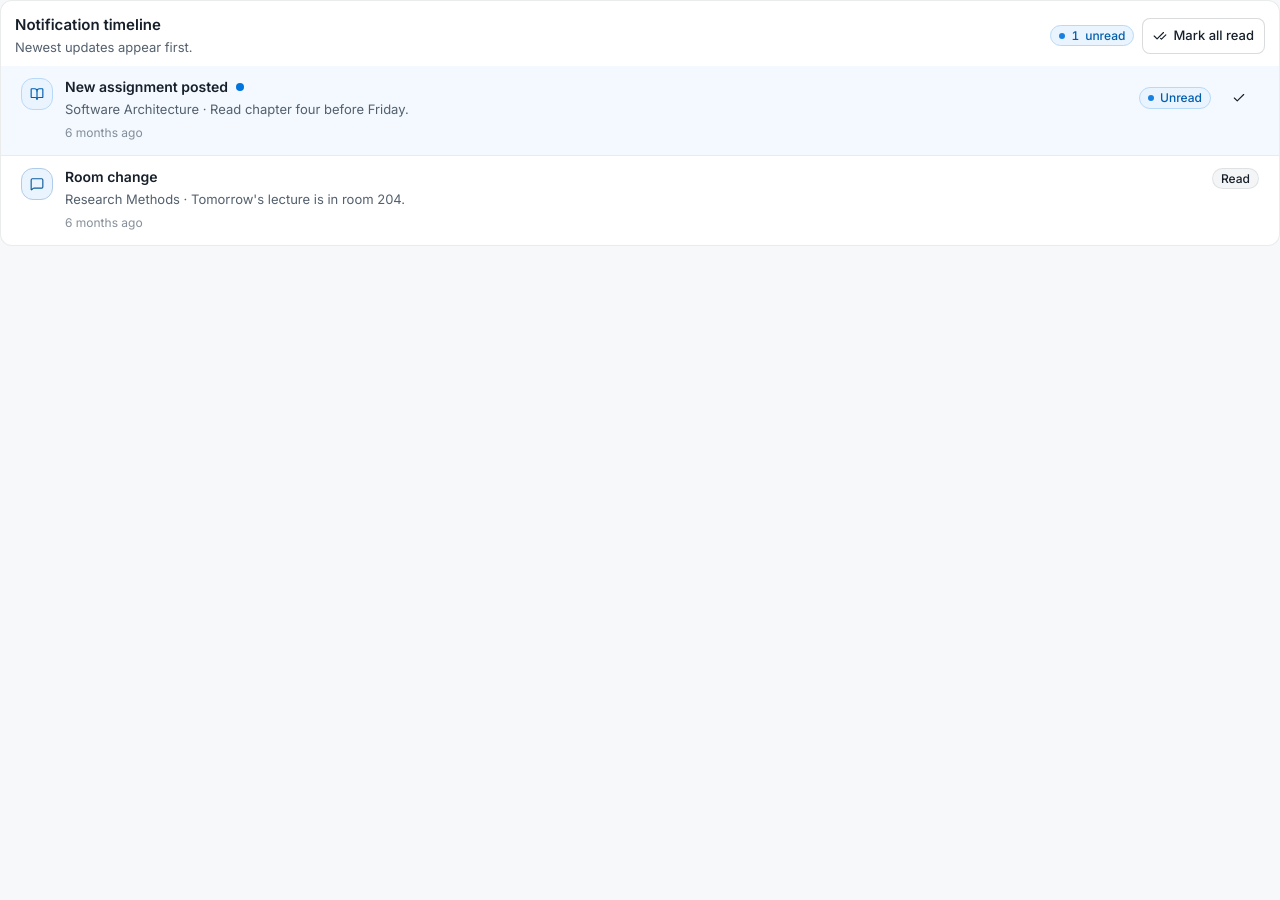
Test: NotificationsClient › rolls back a failed mark-as-read and surfaces the error
Click the button named "Mark New assignment posted as read" at [1239, 98], box [1219,78,1259,118]
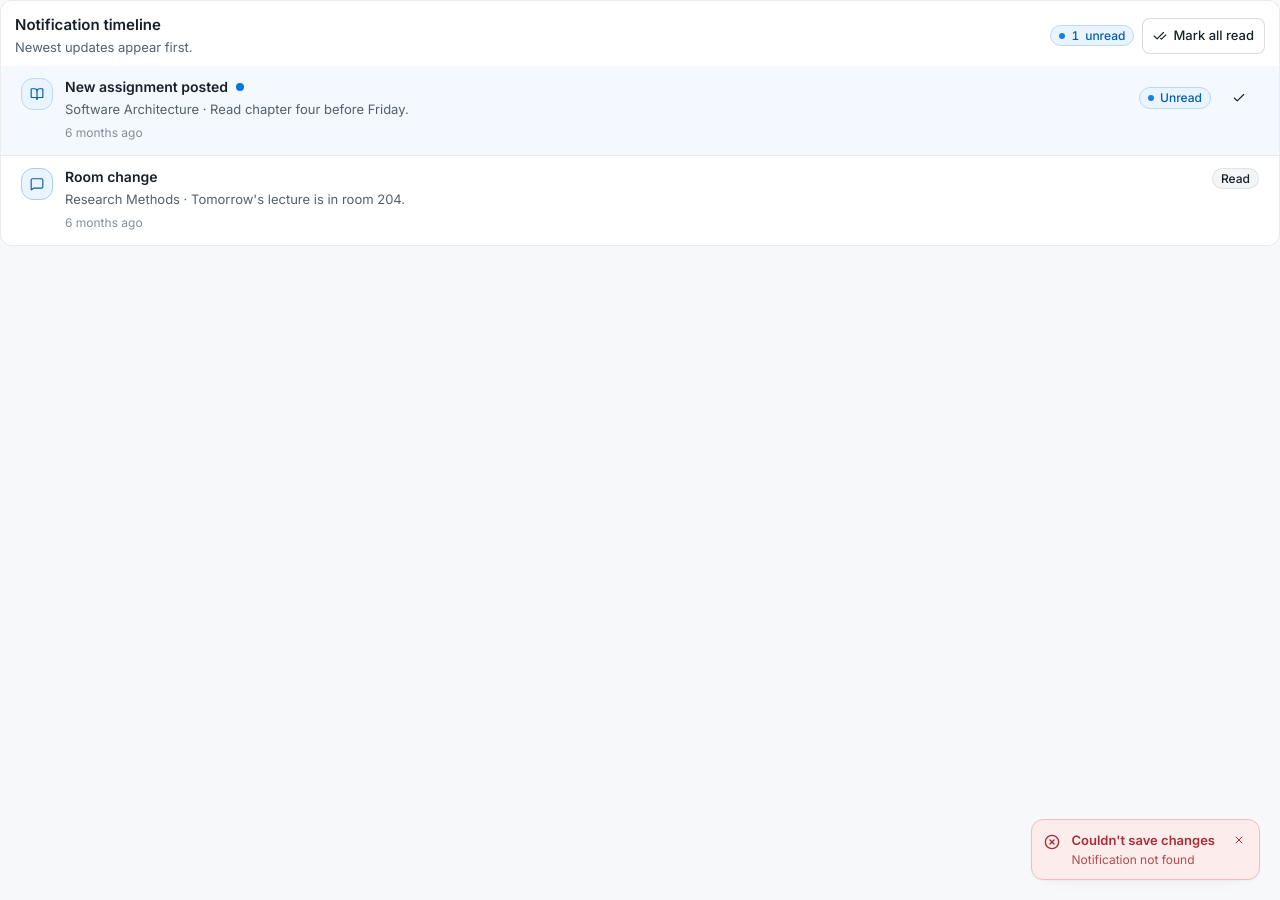
Expected: the text "Unread" is shown once, [1139,87,1211,109]
Expected: the text "Couldn't save changes" is shown, [1072,832,1215,850]
Expected: the text "Notification not found" is shown, [1072,852,1215,867]
